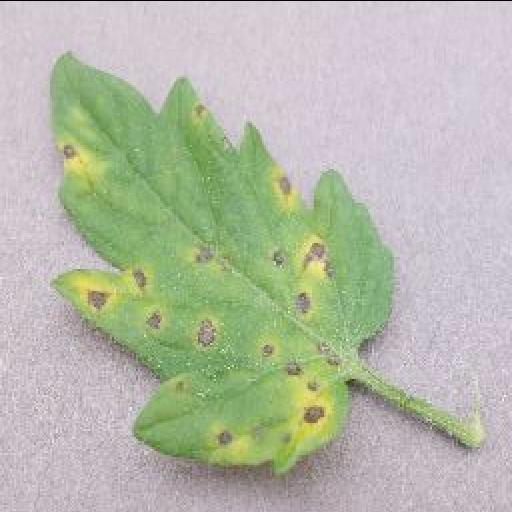disease_tomato: (50, 50, 396, 468)
